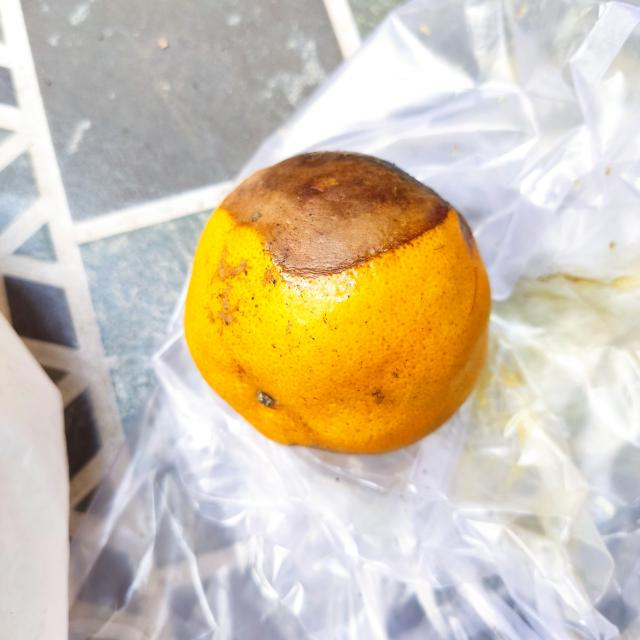orange: (177, 150, 492, 458)
